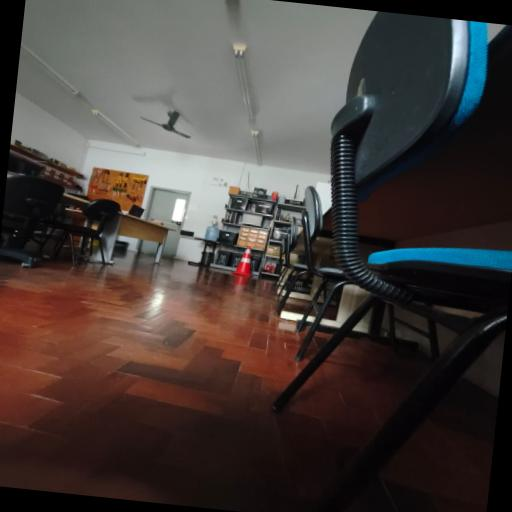cone: (230, 242, 260, 284)
